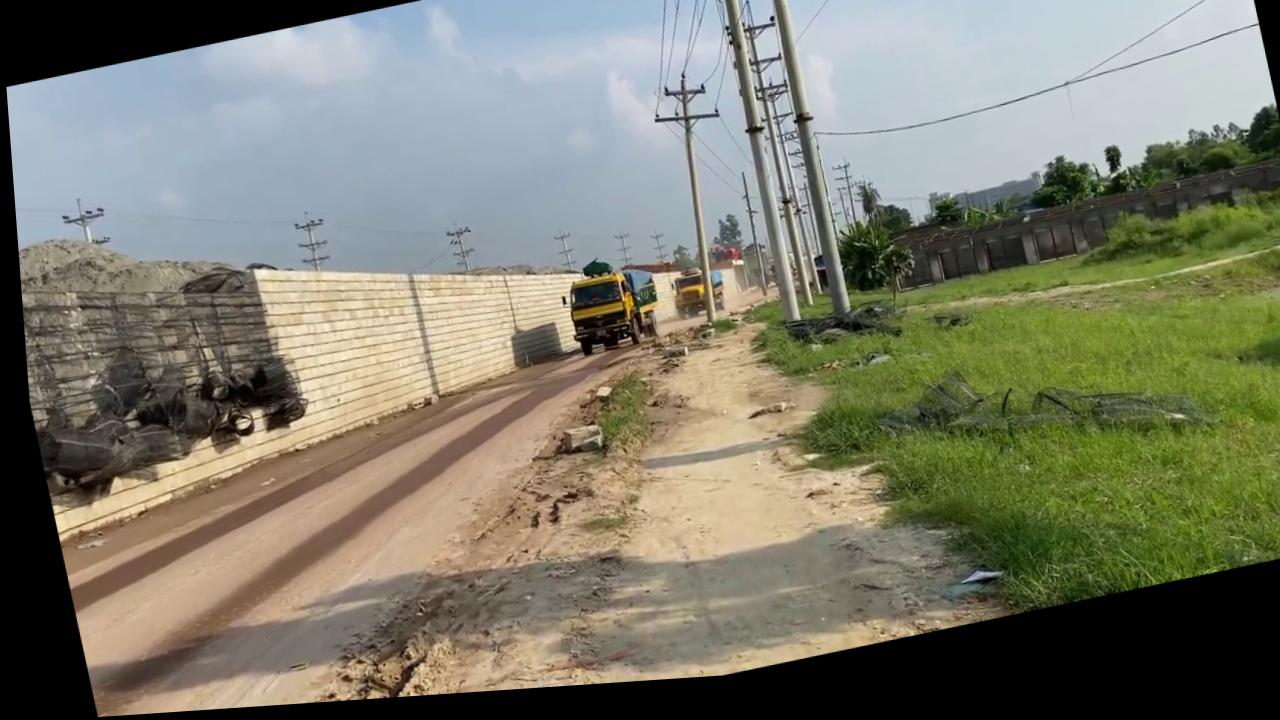Fence: (875, 172, 1280, 306)
Garbage: (19, 314, 309, 496)
Pole: (700, 0, 804, 336), (750, 0, 849, 330)
Rickshaw: (500, 274, 1000, 695)
Traffic-sign: (704, 220, 740, 264)
Tree: (550, 270, 661, 366), (661, 270, 723, 330)
Upstairs: (10, 136, 627, 542)
